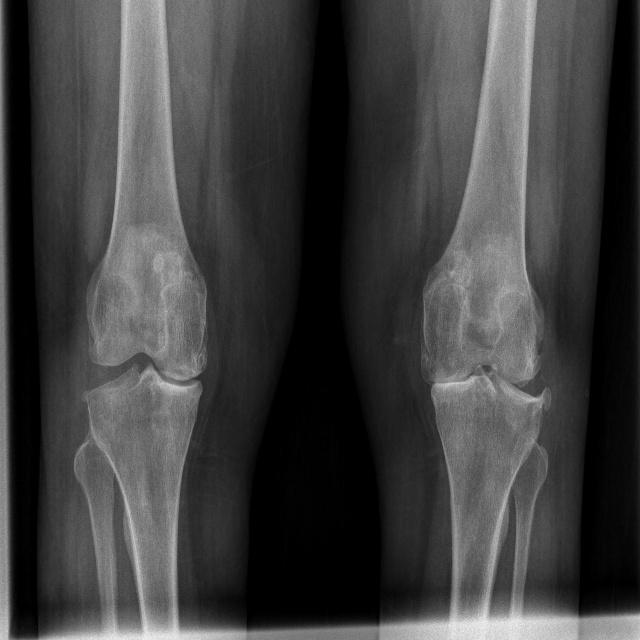Knee: (74, 312, 205, 433), (417, 313, 549, 432)
